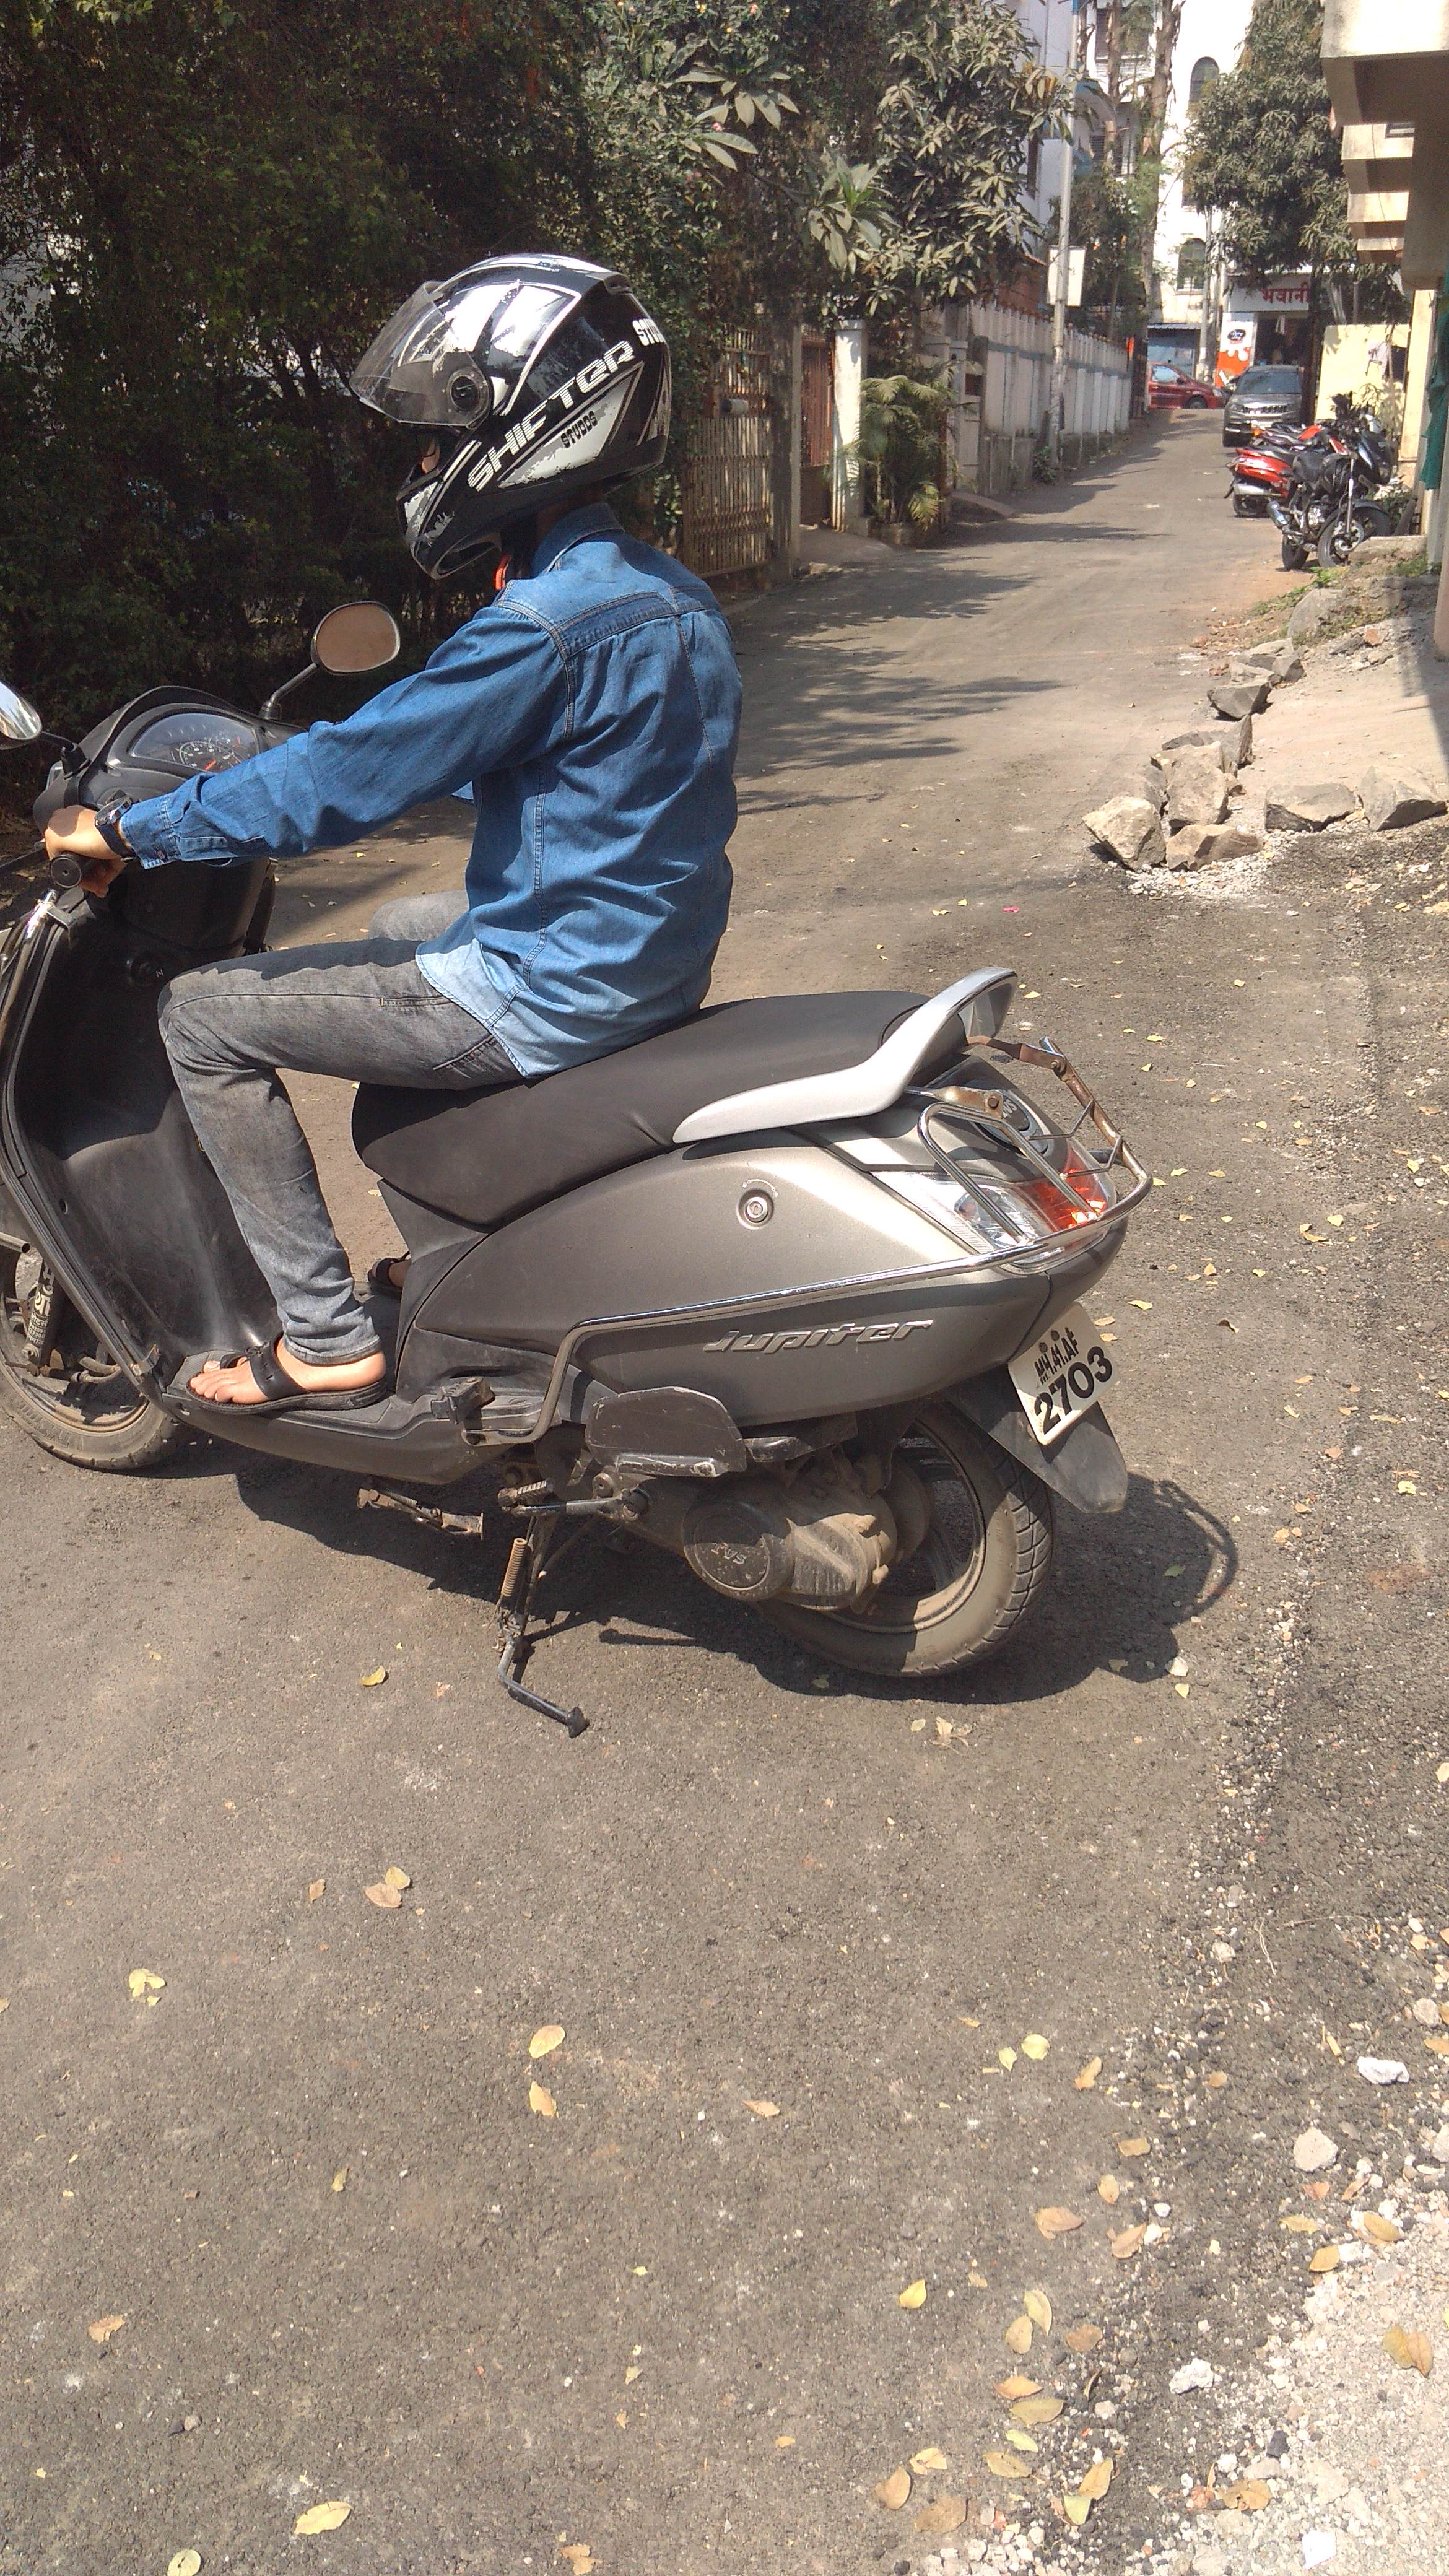helmet: (262, 235, 791, 1086)
